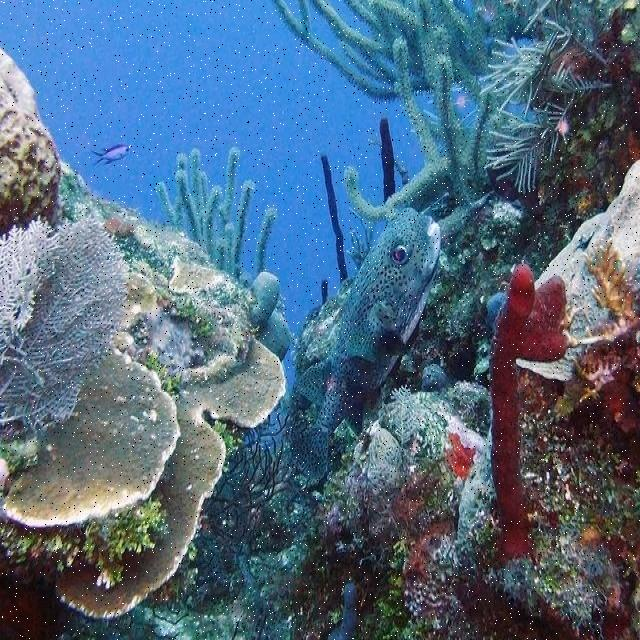fish: (290, 207, 441, 478)
reefs: (3, 348, 181, 527), (344, 36, 499, 234), (0, 214, 129, 432), (488, 262, 572, 558), (155, 146, 256, 281), (1, 49, 61, 240), (92, 144, 130, 168)
